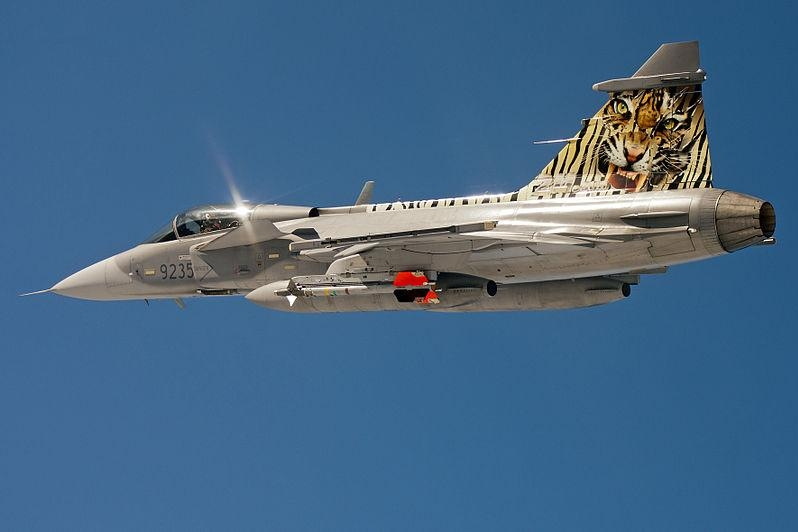JAS39: (16, 40, 776, 313)
